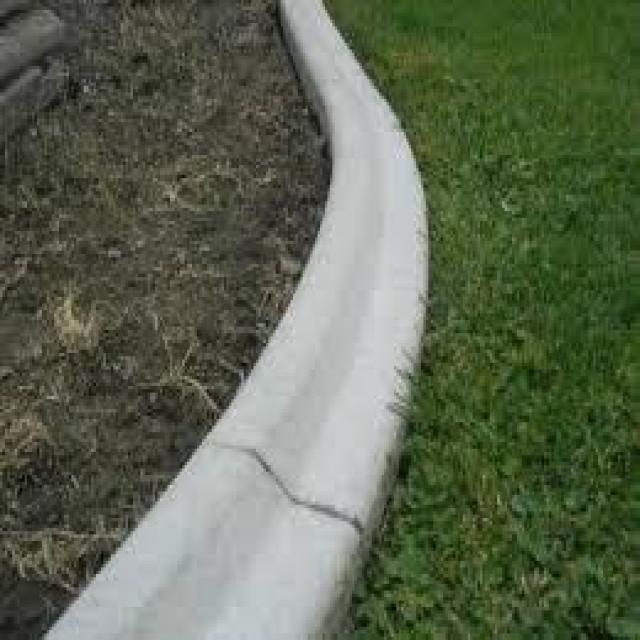curb: (208, 7, 429, 537), (46, 442, 373, 640)
